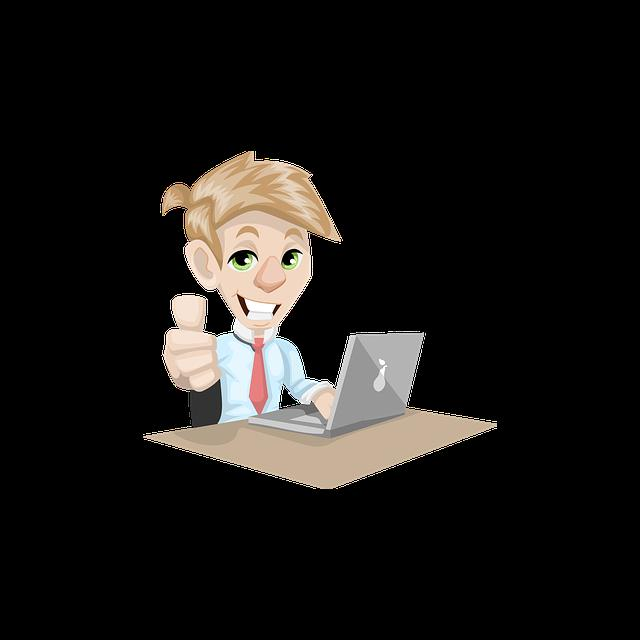male: (143, 158, 347, 341)
